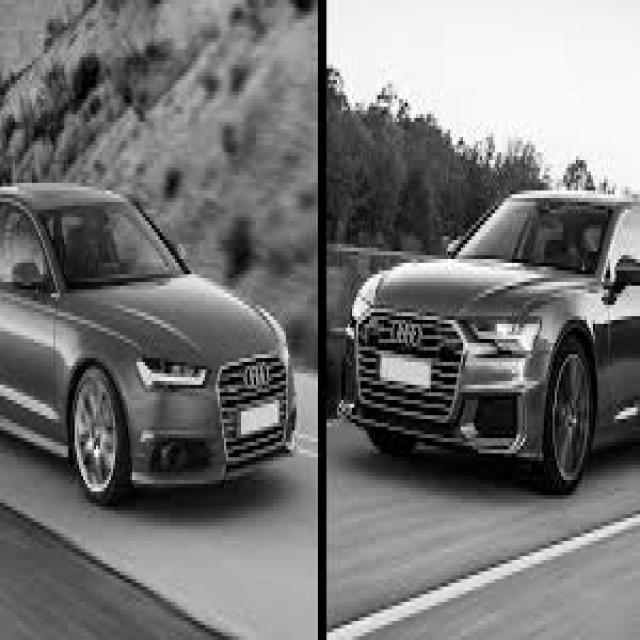Car: (0, 188, 296, 501), (350, 194, 640, 490)
